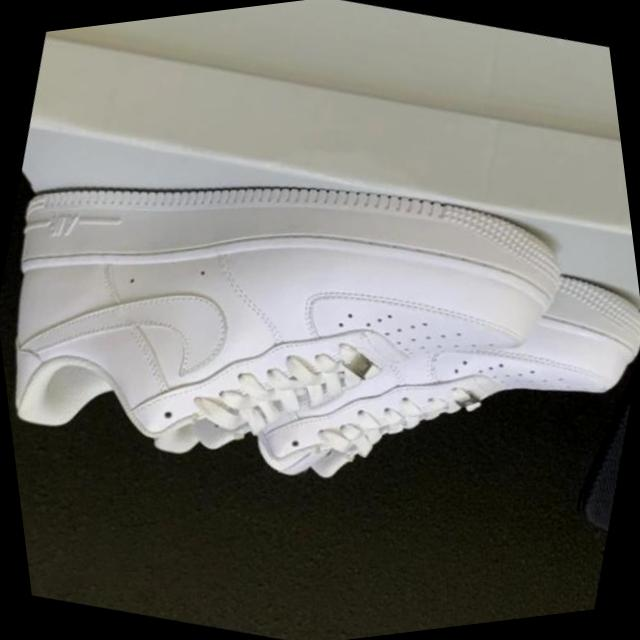nike_original_airforce: (0, 68, 605, 578), (121, 157, 640, 586)
